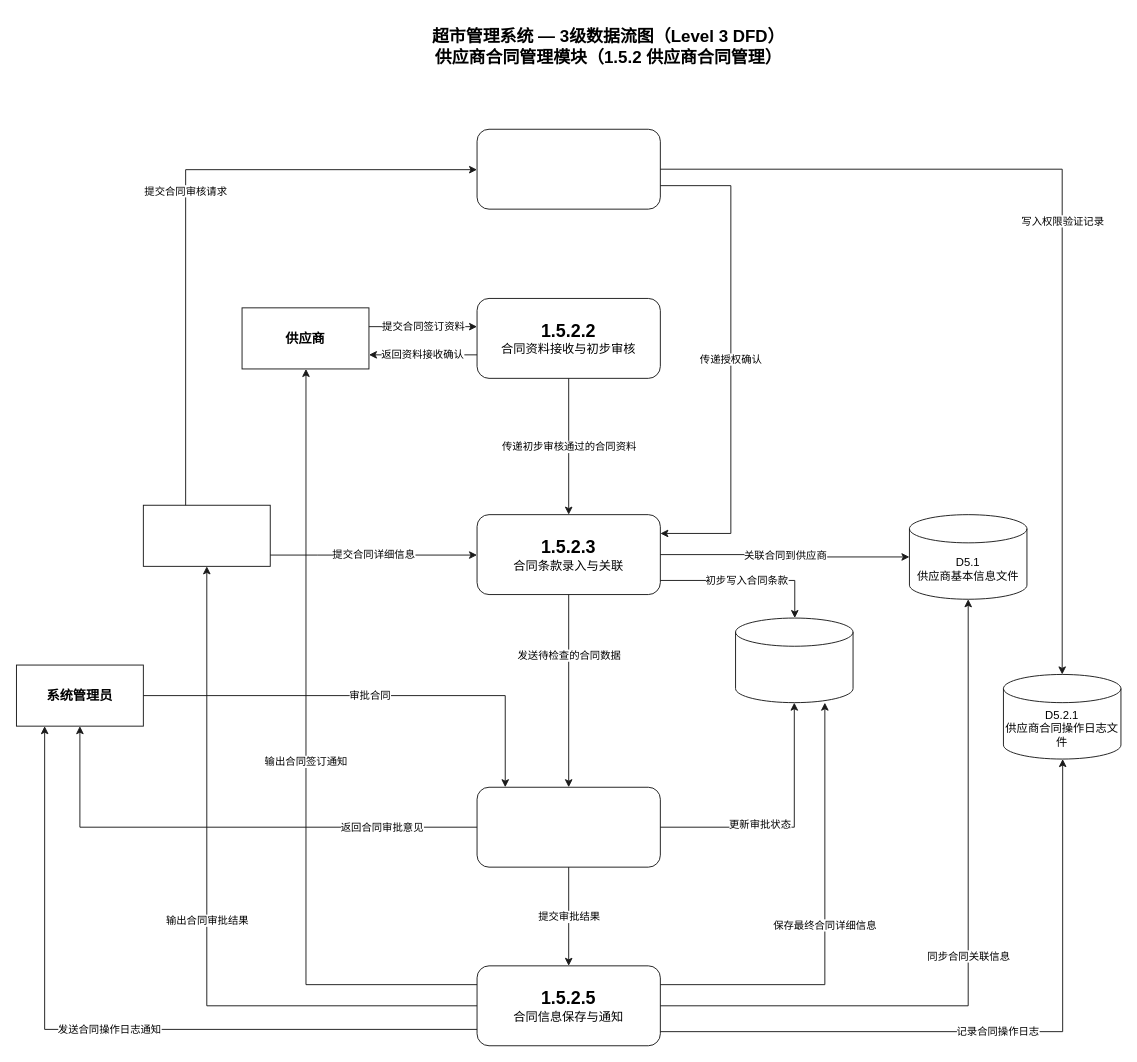
The diagram is 1137 pixels wide and 1062 high, and some of its shapes have lost their labels. The centre of each missing label's shape, as x and y in pixels:
"1.5.2.1 合同操作权限验证" belongs at (568,168).
"1.5.2.4 合同合规性与风险检查" belongs at (568,826).
"D5.2 供应商合同文件" belongs at (794,660).
"员工" belongs at (206,535).
